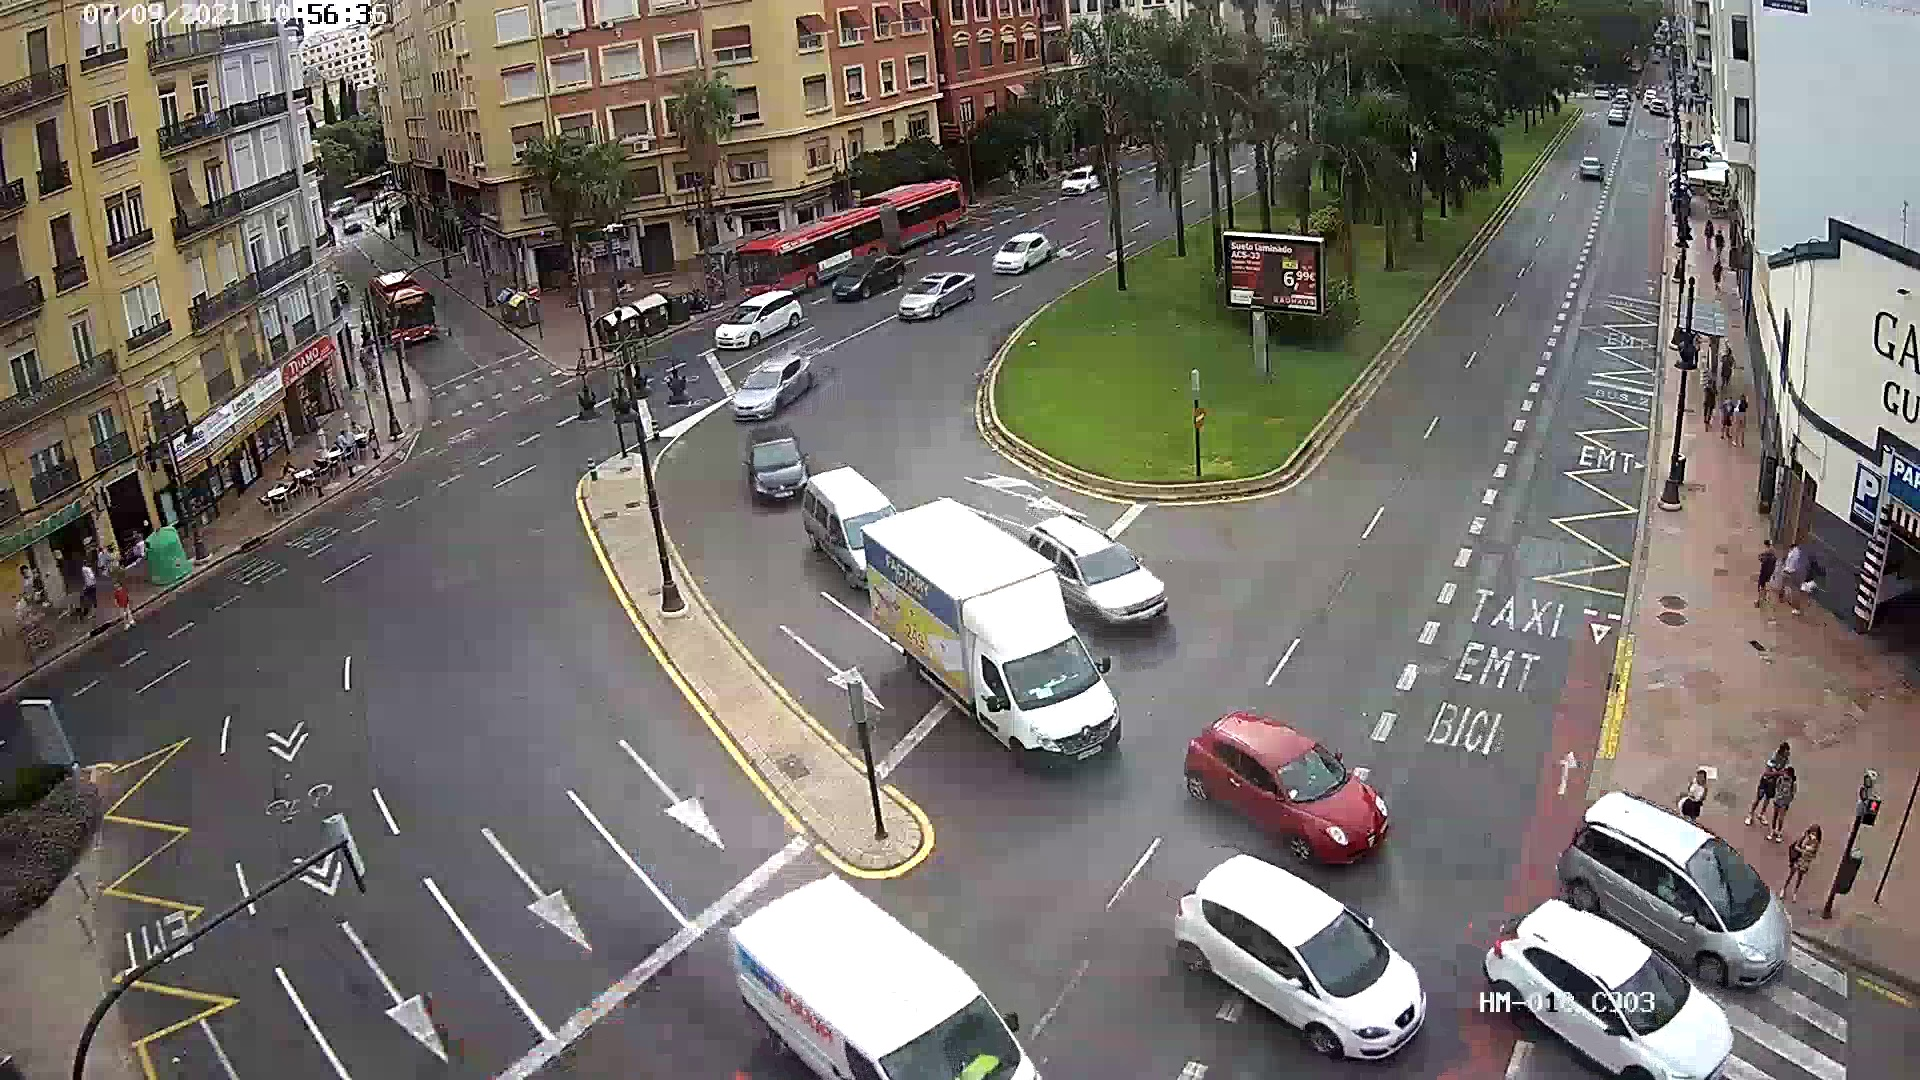Cars: (1156, 832, 1447, 1064), (1160, 713, 1404, 866), (1021, 508, 1187, 636), (731, 422, 822, 506), (899, 270, 1004, 328), (738, 356, 816, 422), (720, 293, 808, 349), (828, 258, 909, 306), (986, 233, 1059, 278)
